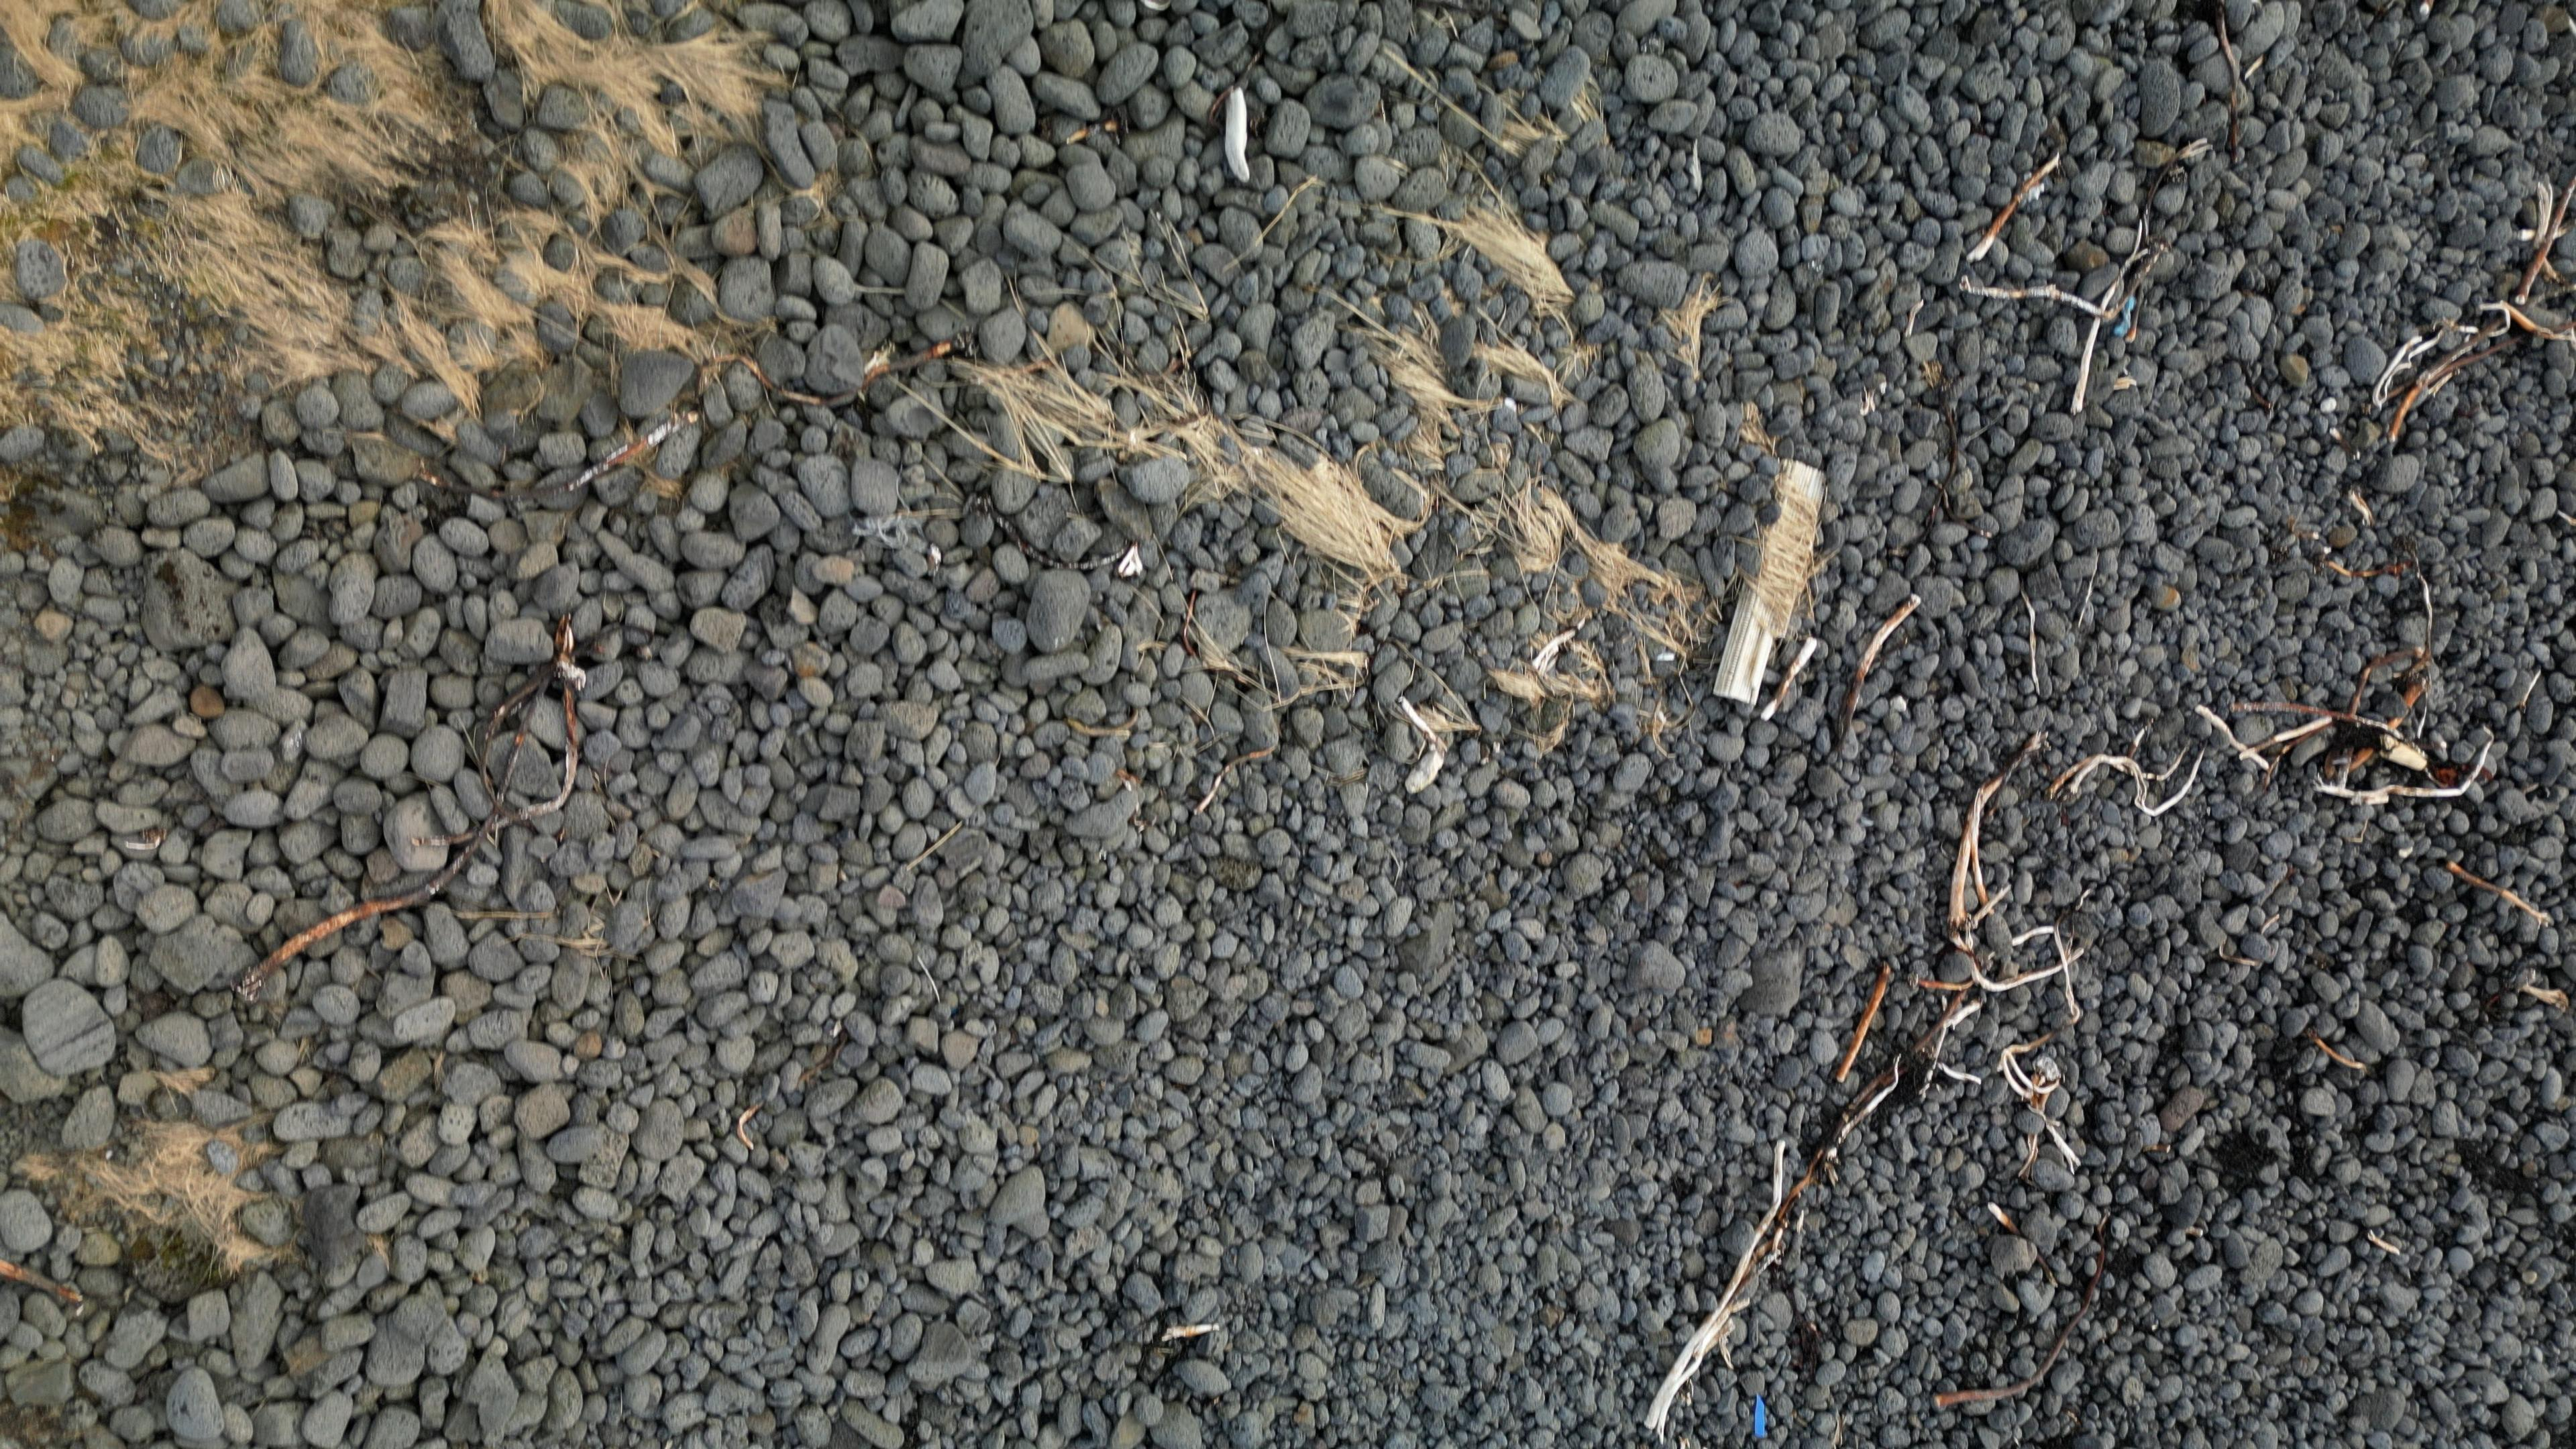trash: (1751, 1394, 1766, 1439)
